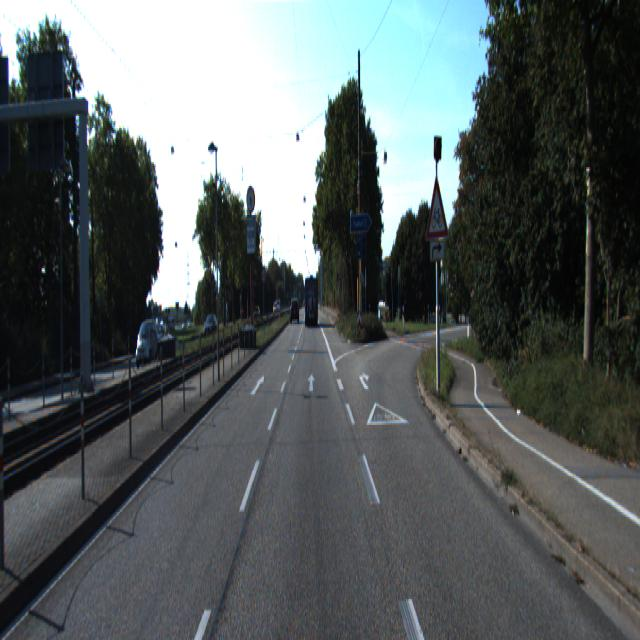Car: (134, 320, 161, 368), (304, 275, 318, 326)
